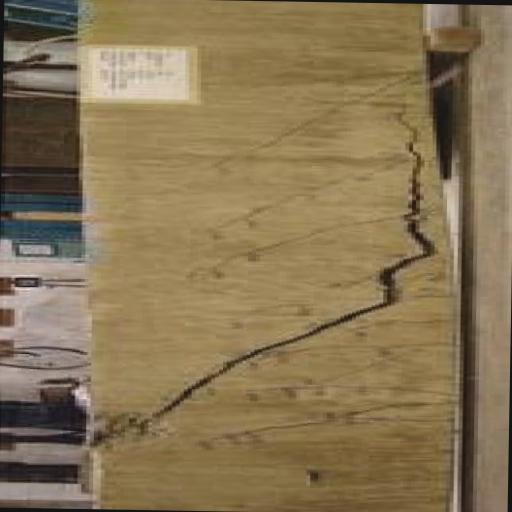spalling: (140, 108, 452, 421)
